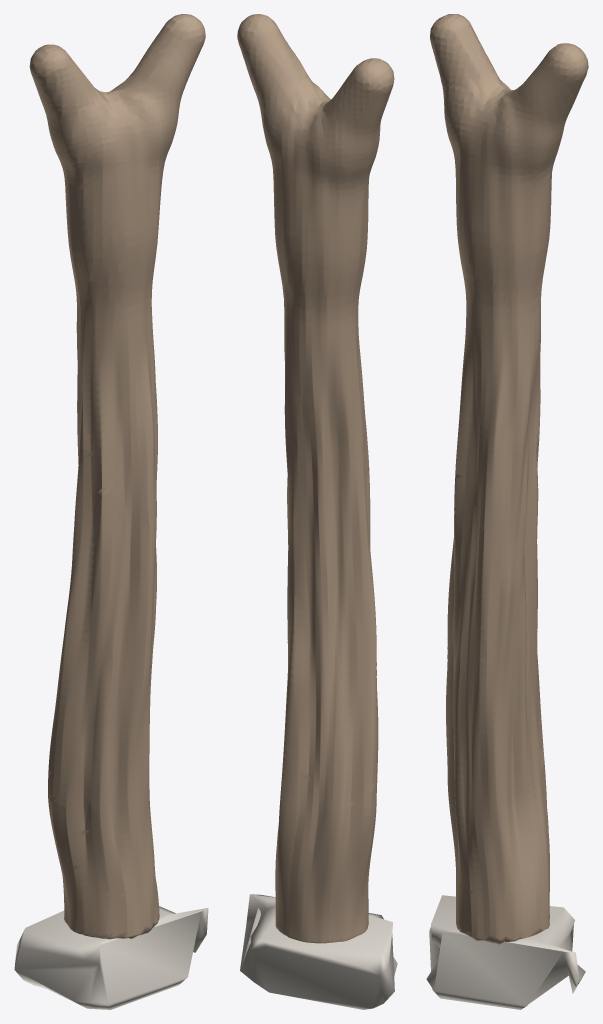
The model's file is bagana-f1-3x13x3-v2.glb.
3 views of the same model, side by side, from view 1: azimuth 30°, elevation 25°; view 2: azimuth 150°, elevation 25°; view 3: azimuth 330°, elevation 25° (orthographic).
Visible parts, largest first — view 1: bagana_wood, bagana_stone; view 2: bagana_wood, bagana_stone; view 3: bagana_wood, bagana_stone.
Boxes of the visible parts, <box> form: bagana_wood: <box>29,14,205,939</box>; bagana_stone: <box>14,906,208,1009</box>; bagana_wood: <box>237,14,394,943</box>; bagana_stone: <box>240,894,397,1009</box>; bagana_wood: <box>430,14,588,944</box>; bagana_stone: <box>426,895,585,1009</box>.
Size of the model in its own units: 0.6597 by 3.5 by 0.4309.
